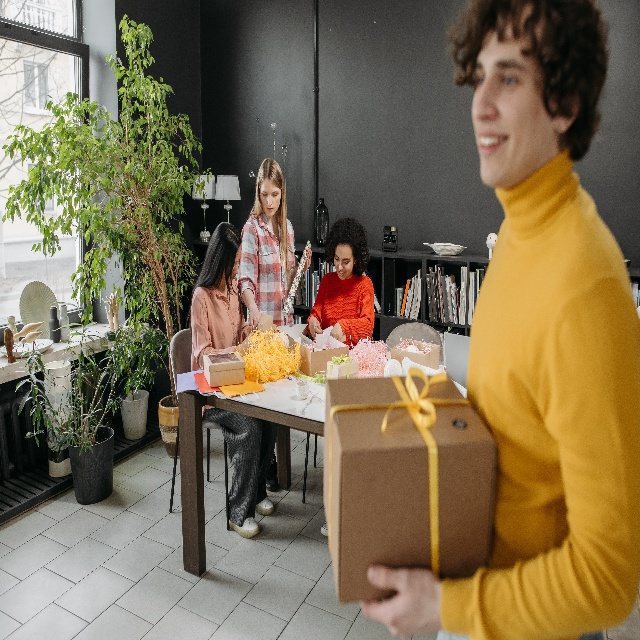Sin_guantes: (356, 562, 441, 640), (242, 330, 259, 356), (299, 246, 312, 273), (309, 315, 323, 340), (248, 306, 261, 329), (330, 322, 342, 342)
